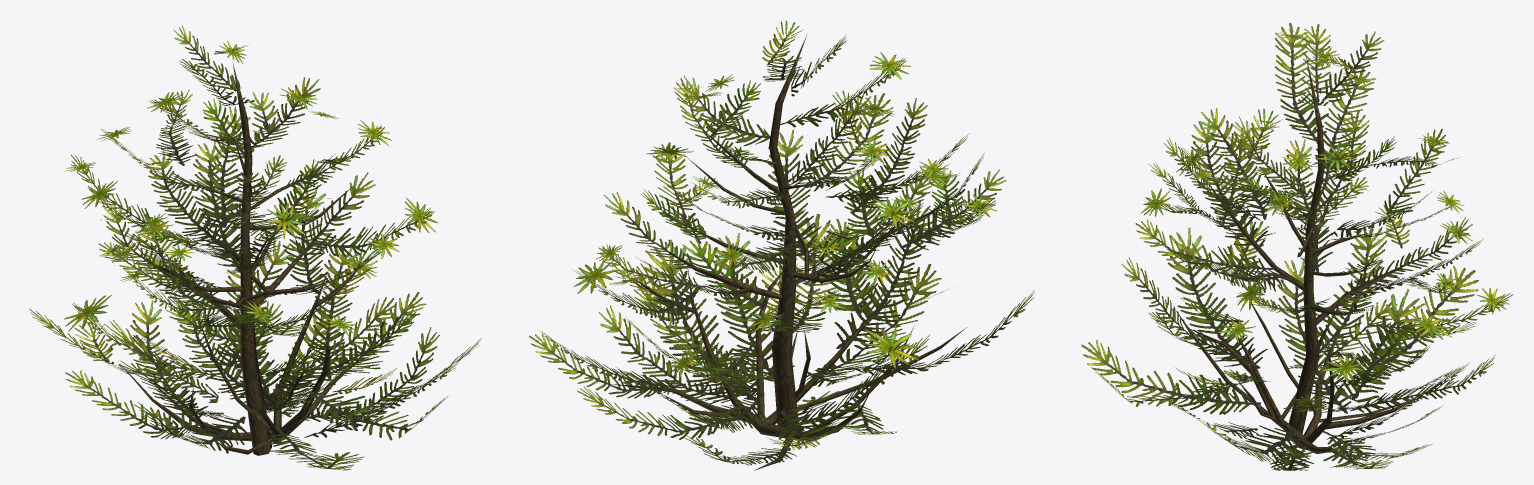
The model's file is wlf_cao08_w.FBX.
3 views of the same model, side by side, from view 1: azimuth 30°, elevation 25°; view 2: azimuth 150°, elevation 25°; view 3: azimuth 270°, elevation 25° (orthographic). The views are drawn at different scales.
Visible parts, largest first — view 1: wlf_cao08_w; view 2: wlf_cao08_w; view 3: wlf_cao08_w.
Boxes of the visible parts, x1,y1,x2,y2 form: wlf_cao08_w: (29, 25, 480, 470); wlf_cao08_w: (529, 20, 1034, 470); wlf_cao08_w: (1081, 23, 1513, 470).
Size of the model in its own units: 2560 by 2507 by 2577.
